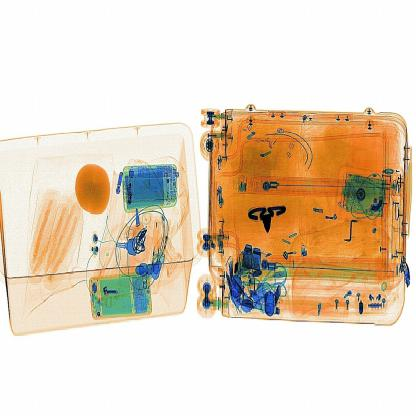gun: (244, 194, 297, 238)
